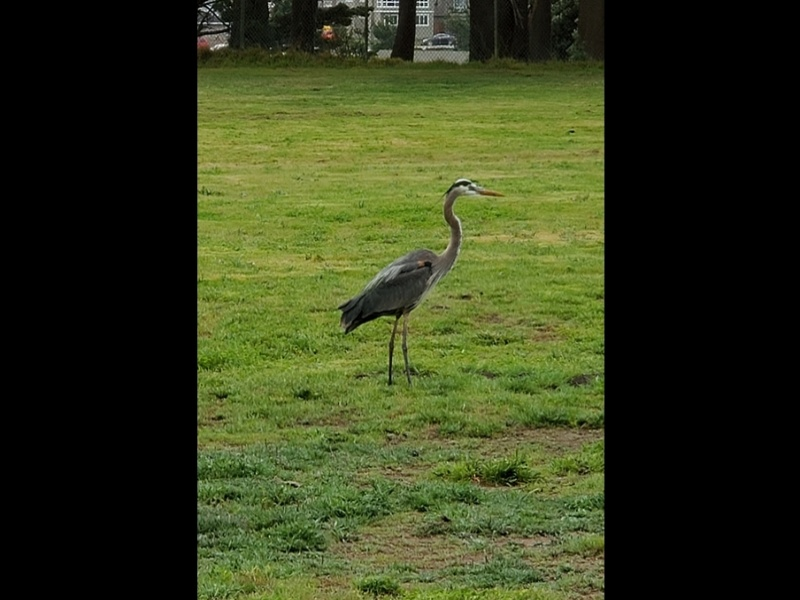heron: (336, 175, 509, 389)
